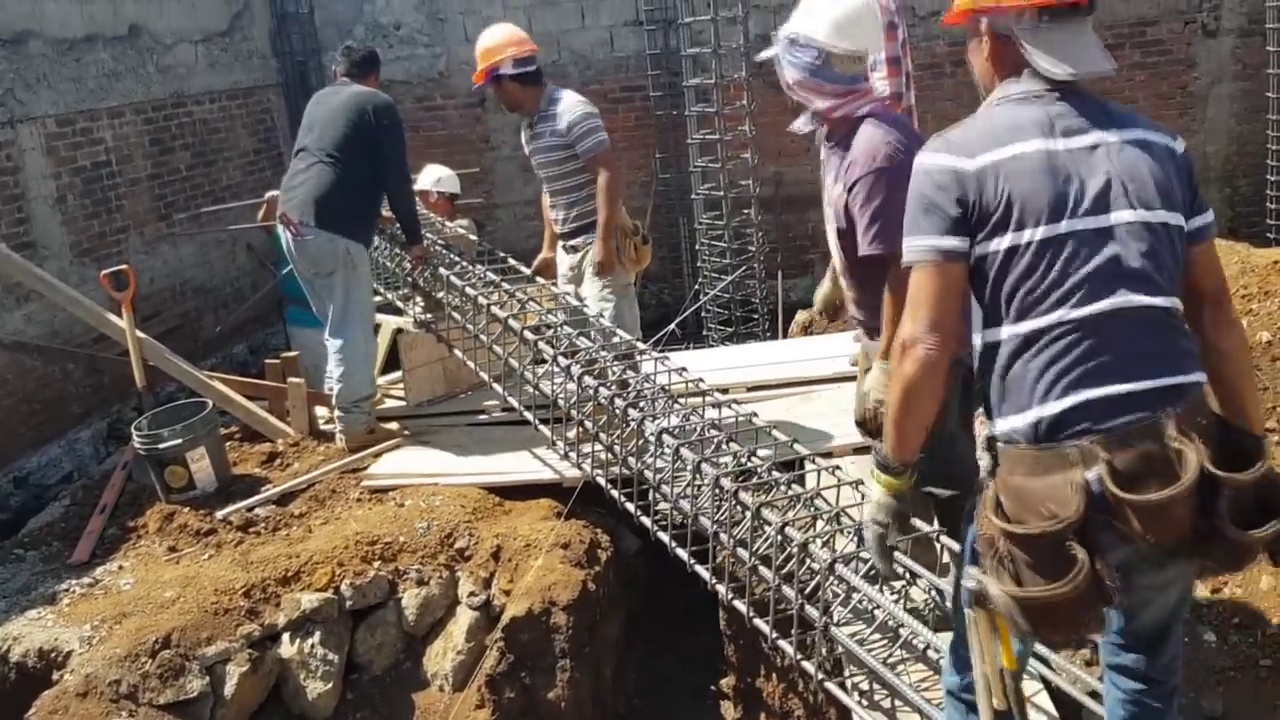helmet: (760, 1, 893, 72), (467, 23, 546, 89), (939, 0, 1088, 27), (409, 157, 457, 195)
helmet-off: (335, 44, 379, 89)
helmet-on: (759, 0, 896, 130), (939, 1, 1114, 101), (464, 22, 549, 123), (412, 159, 458, 216)
person: (862, 0, 1252, 720), (761, 4, 947, 442), (275, 36, 418, 458), (465, 22, 636, 331)
